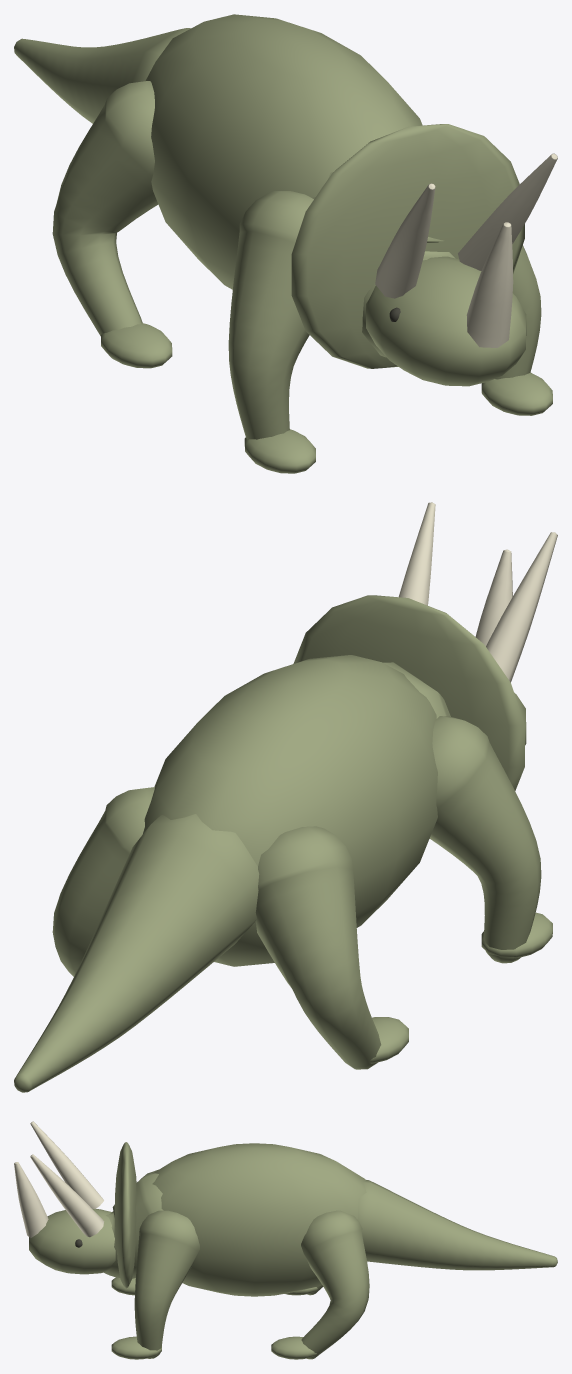
Rendered from dinosaurs-and-prehistoric-life-triceratops-charging-1cf3ca51__4908.glb.
3 renders of one model, top to bottom at view 1: azimuth 30°, elevation 25°; view 2: azimuth 150°, elevation 25°; view 3: azimuth 270°, elevation 25°, orthographic. The views are drawn at different scales.
Visible parts, largest first — view 1: triceratops-charging; view 2: triceratops-charging; view 3: triceratops-charging.
Boxes of the visible parts, x1,y1,x2,y2 form: triceratops-charging: (14,14,557,473); triceratops-charging: (14,502,557,1092); triceratops-charging: (14,1121,557,1359).
Bounding box in the file's own units: 2.86 × 3.05 × 8.
